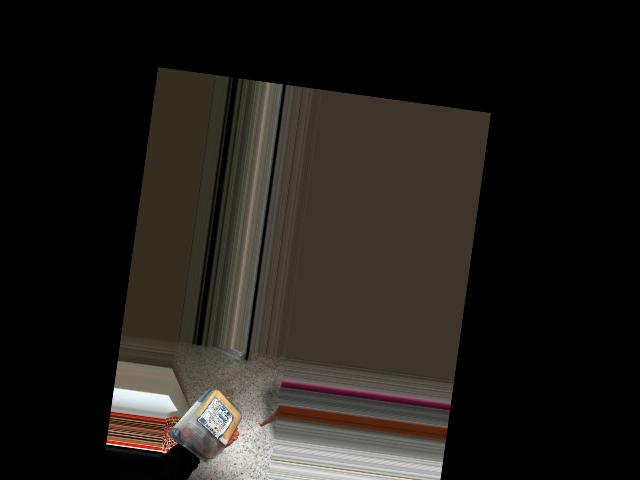cheese: (176, 386, 243, 459)
